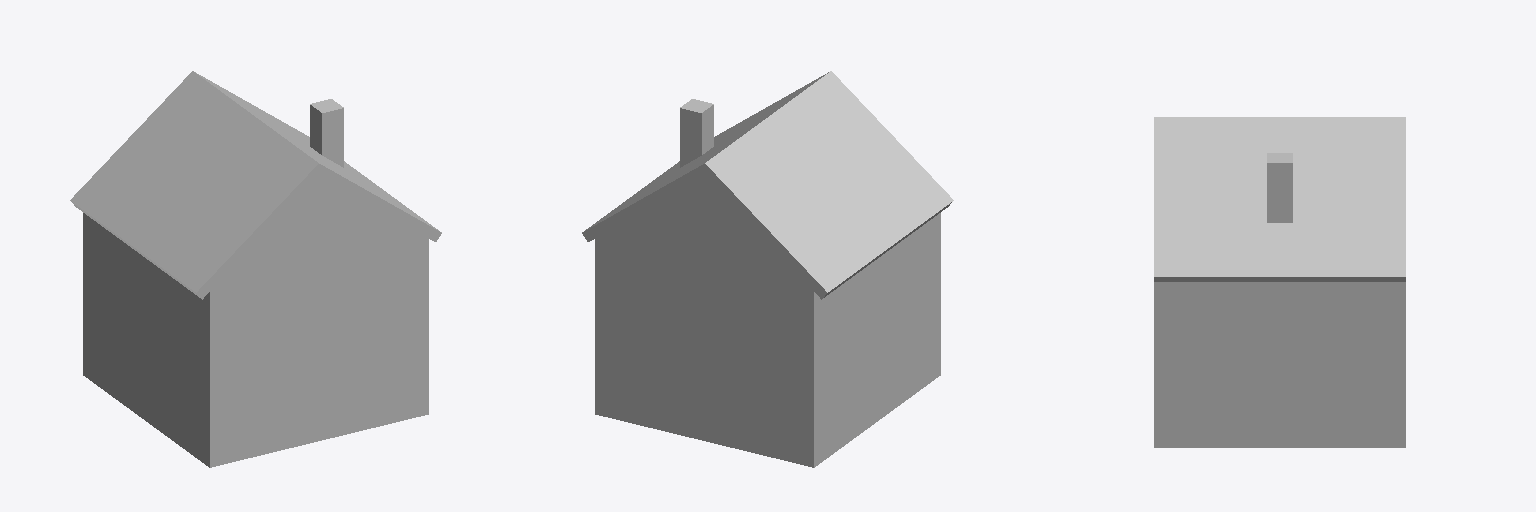
Rendered from house1.obj.
3 renders of one model, left to right at view 1: azimuth 30°, elevation 25°; view 2: azimuth 150°, elevation 25°; view 3: azimuth 270°, elevation 25°, orthographic.
Visible parts, largest first — view 1: Cube, Cube.1, Cube.2; view 2: Cube, Cube.1, Cube.2; view 3: Cube, Cube.1, Cube.2.
Part boxes in pixels (bbox=[...]): Cube: bbox=[83, 213, 428, 467]; Cube.1: bbox=[70, 71, 441, 299]; Cube.2: bbox=[310, 99, 343, 167]; Cube: bbox=[595, 213, 940, 467]; Cube.1: bbox=[582, 71, 953, 299]; Cube.2: bbox=[680, 99, 713, 167]; Cube: bbox=[1154, 282, 1405, 447]; Cube.1: bbox=[1154, 117, 1405, 281]; Cube.2: bbox=[1267, 153, 1292, 222].
Bounding box in the file's own units: 22.47 × 24.26 × 20.